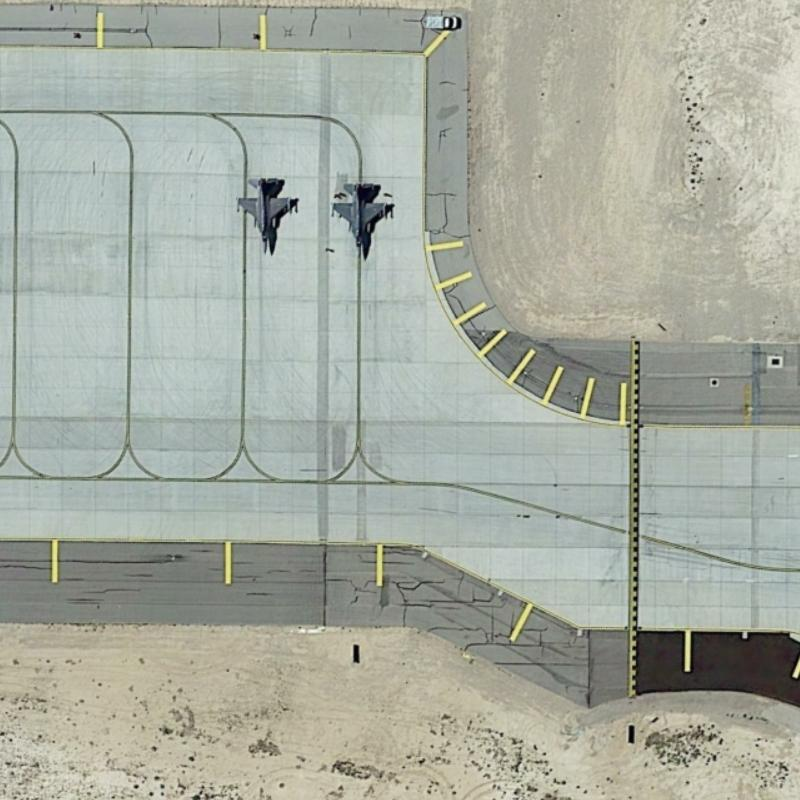A5: (328, 171, 397, 265), (229, 169, 300, 260)
